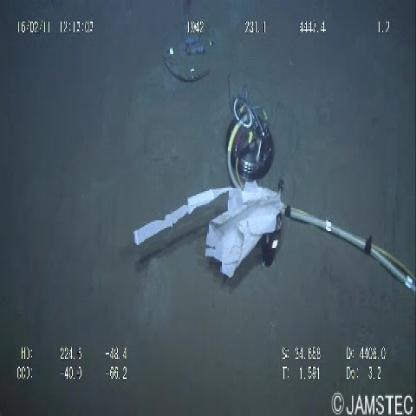Rov: (221, 82, 276, 190)
Rác: (129, 182, 288, 283)
